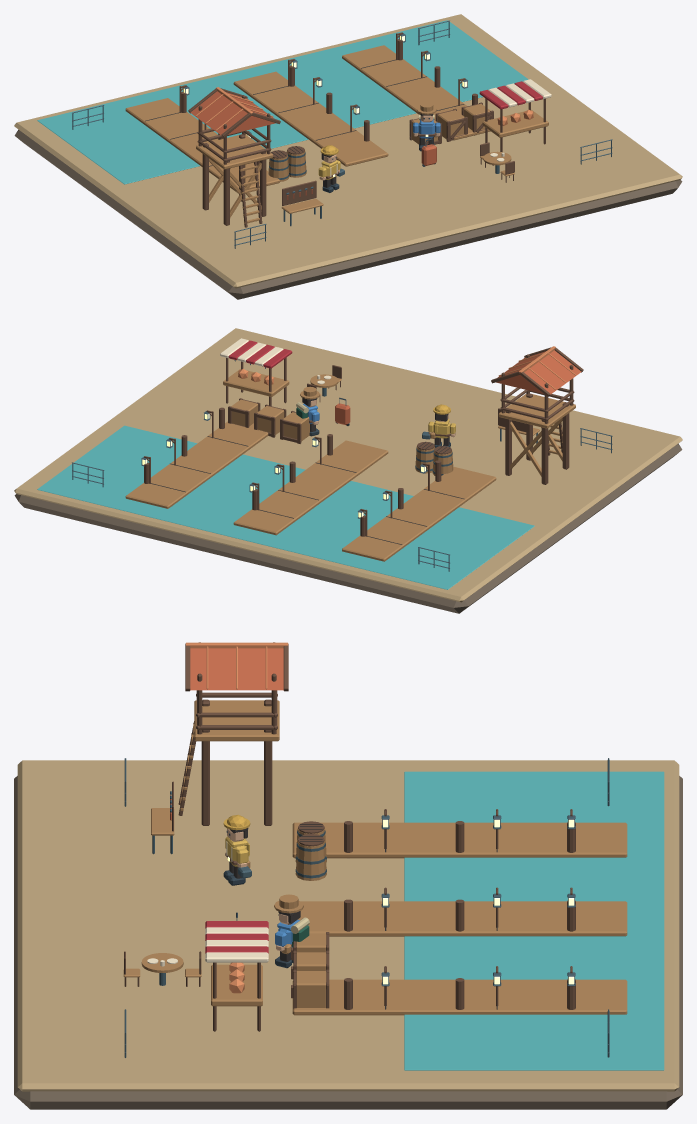
The model's file is world-harbor.glb.
3 renders of one model, top to bottom at view 1: azimuth 30°, elevation 25°; view 2: azimuth 150°, elevation 25°; view 3: azimuth 270°, elevation 25°, orthographic. The views are drawn at different scales.
Parts seen in each view (by area): view 1: terrain-top, sea, terrain-stratum, jetty.001, jetty.002, jetty, tower-canopy.001, tower-deck.001, counter.001, pegboard.001, crate-body.002; view 2: terrain-top, sea, terrain-stratum, jetty.001, jetty, jetty.002, tower-canopy.001, tower-deck.001, counter.001, crate-body.001, crate-body.002, crate-body.003 (+2 smaller); view 3: terrain-top, sea, terrain-stratum, jetty.001, jetty, jetty.002, tower-canopy.001, tower-deck.001, counter.001, crate-body.003, barrel.001, tower-leg.006 (+2 smaller).
Boxes of the visible parts, box(x1,y1,x2,y2) form: terrain-top: box(14, 14, 682, 288); sea: box(37, 20, 528, 184); terrain-stratum: box(14, 129, 682, 299); jetty.001: box(233, 71, 388, 166); jetty.002: box(342, 45, 490, 140); jetty: box(125, 98, 280, 192); tower-canopy.001: box(190, 91, 275, 135); tower-deck.001: box(196, 134, 273, 169); counter.001: box(482, 109, 548, 137); pegboard.001: box(282, 180, 316, 205); crate-body.002: box(437, 110, 464, 139); terrain-top: box(14, 328, 682, 602); sea: box(37, 425, 534, 589); terrain-stratum: box(14, 443, 682, 613); jetty.001: box(233, 440, 388, 535); jetty: box(342, 467, 496, 561); jetty.002: box(125, 421, 268, 508); tower-canopy.001: box(496, 350, 581, 394); tower-deck.001: box(498, 394, 575, 428); counter.001: box(223, 369, 289, 396); crate-body.001: box(283, 412, 309, 441); crate-body.002: box(257, 406, 284, 434); crate-body.003: box(231, 399, 258, 426); terrain-top: box(17, 760, 679, 1091); sea: box(404, 771, 664, 1070); terrain-stratum: box(14, 776, 682, 1109); jetty.001: box(298, 901, 627, 936); jetty: box(292, 822, 627, 858); jetty.002: box(292, 979, 627, 1015); tower-canopy.001: box(190, 648, 283, 690); tower-deck.001: box(194, 700, 279, 741); counter.001: box(211, 964, 262, 1006); crate-body.003: box(296, 971, 326, 1007); barrel.001: box(295, 840, 326, 880); tower-leg.006: box(201, 730, 209, 825).
Bounding box in the file's own units: 21 × 5.88 × 18.
